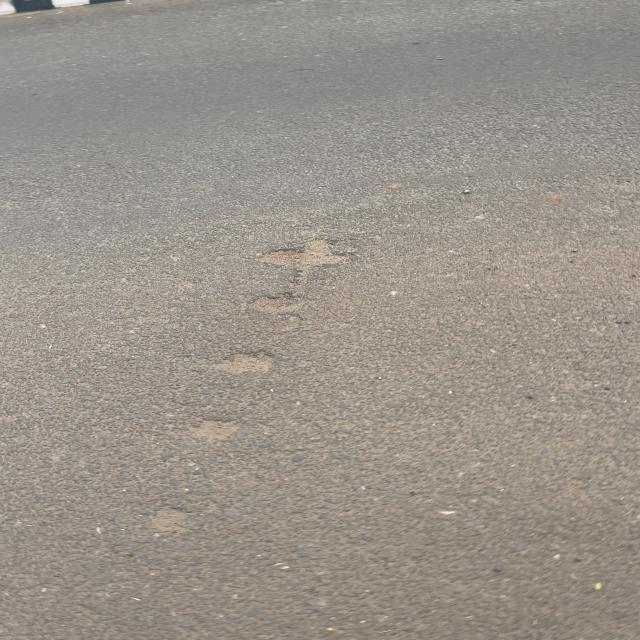D43: (146, 225, 313, 556)
